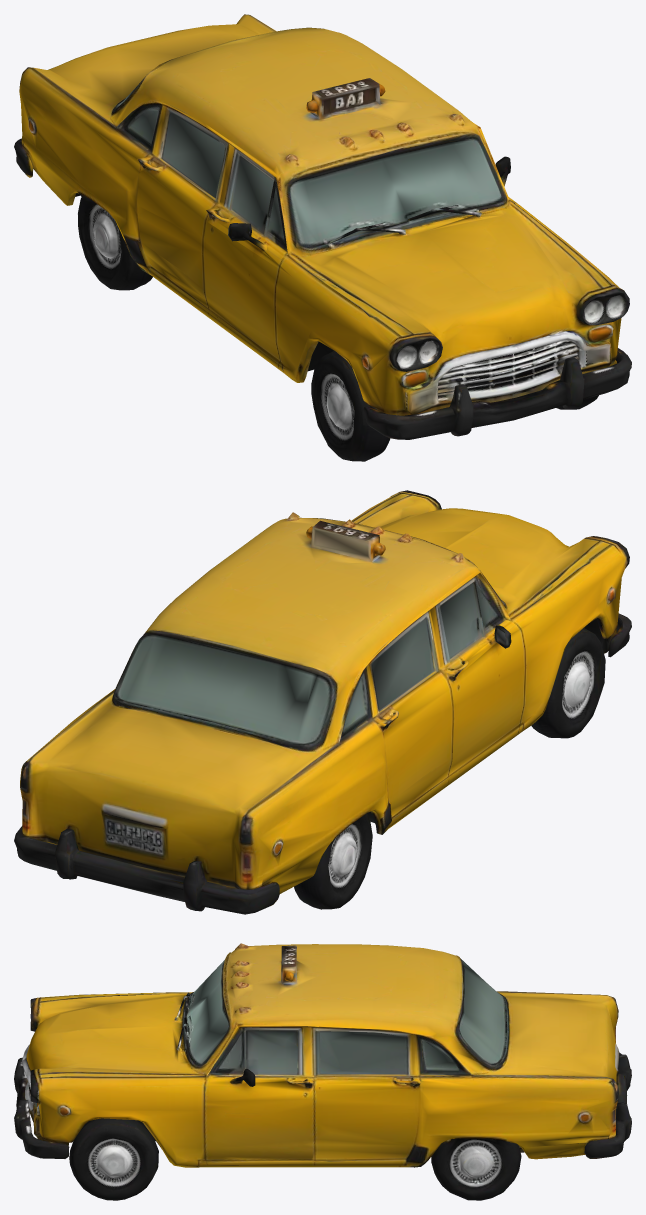
The model's file is taxi.glb.
3 views of the same model, one above another, from view 1: azimuth 30°, elevation 25°; view 2: azimuth 150°, elevation 25°; view 3: azimuth 270°, elevation 25° (orthographic). The views are drawn at different scales.
Parts seen in each view (by area): view 1: node_0; view 2: node_0; view 3: node_0.
Boxes of the visible parts, x1,y1,x2,y2 form: node_0: [14, 14, 631, 461]; node_0: [14, 490, 631, 914]; node_0: [14, 943, 631, 1200].
Size of the model in its own units: 0.4712 by 0.418 by 1.16.
Materials: 1 (1 with a texture image).
